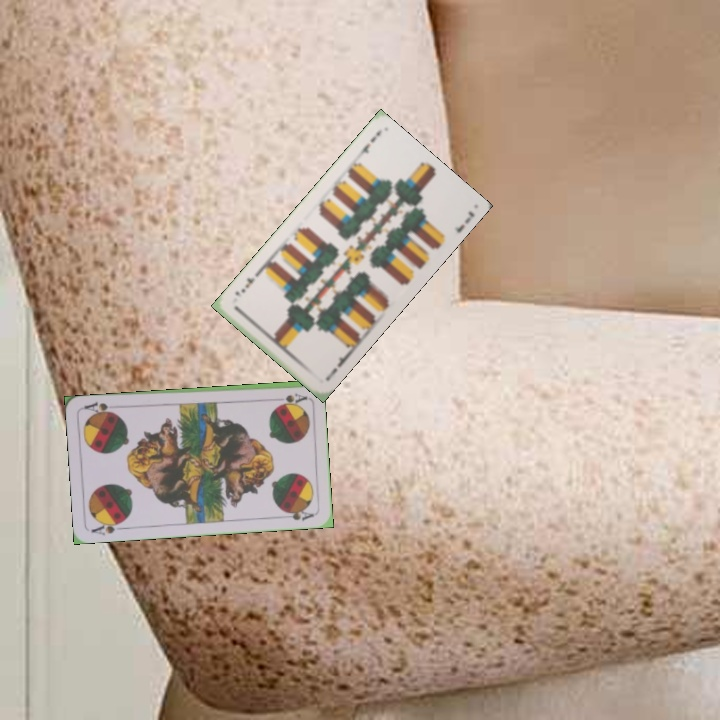E7: (321, 350, 352, 384), (352, 127, 383, 160)
SA: (88, 517, 128, 538), (268, 389, 309, 404)
